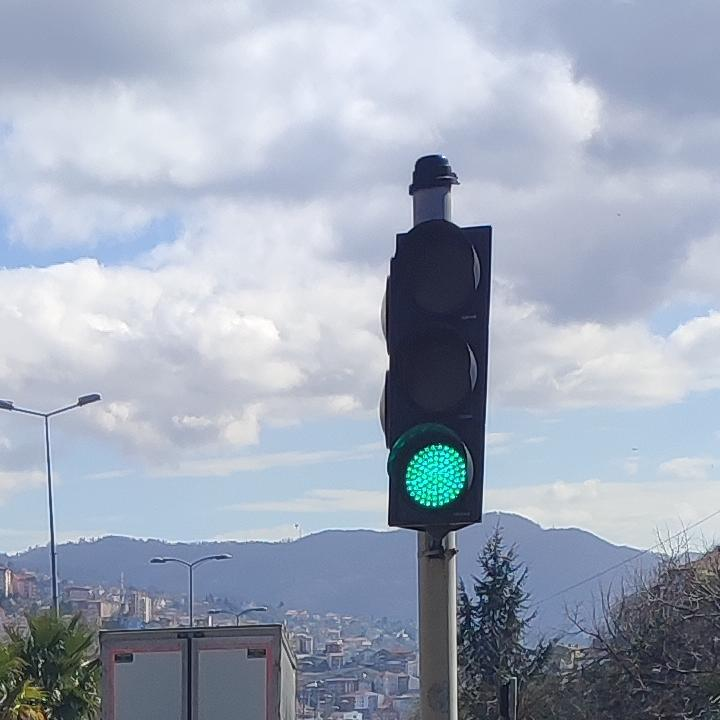green: (380, 227, 490, 544)
